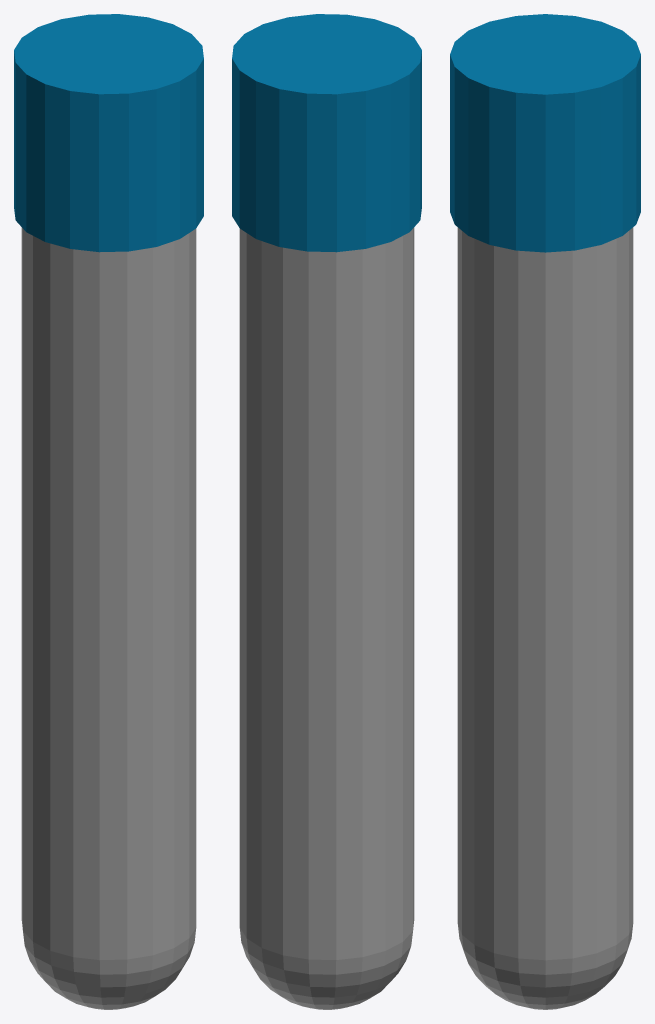
The model's file is Skin_Test_Tube.fbx.
3 renders of one model, left to right at view 1: azimuth 30°, elevation 25°; view 2: azimuth 150°, elevation 25°; view 3: azimuth 270°, elevation 25°, orthographic.
Parts seen in each view (by area): view 1: SkinTube; view 2: SkinTube; view 3: SkinTube.
Boxes of the visible parts, left/top/right/bottom form: SkinTube: left=14, top=14, right=203, bottom=1009; SkinTube: left=232, top=14, right=421, bottom=1009; SkinTube: left=450, top=14, right=640, bottom=1009.
Bounding box in the file's own units: 2.52 × 13.8 × 2.52.
